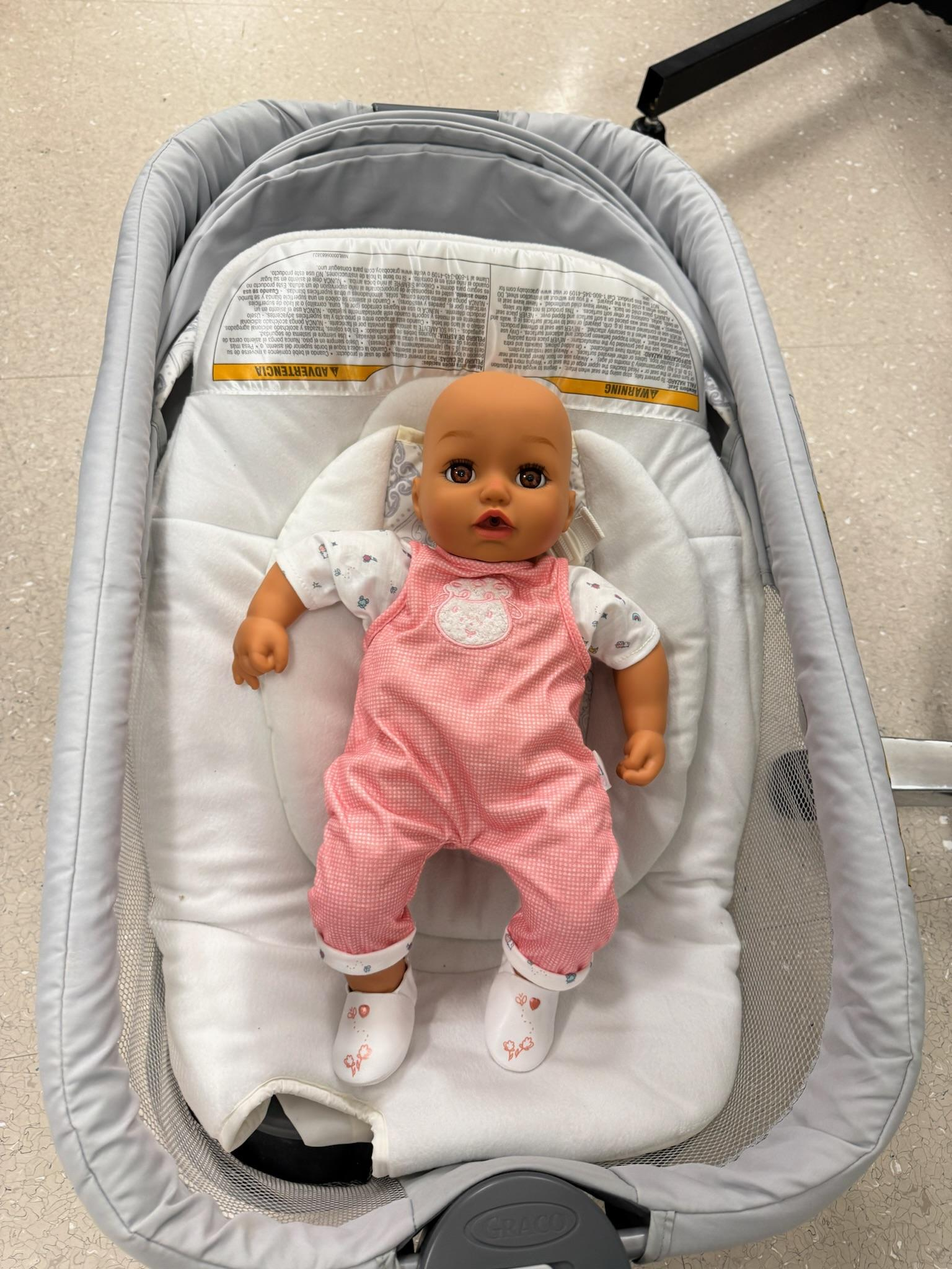baby: (239, 362, 718, 1105)
